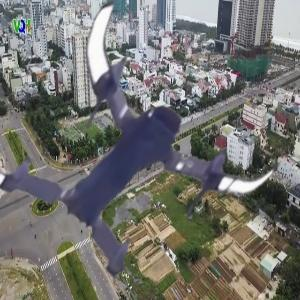drone: (2, 8, 277, 283)
